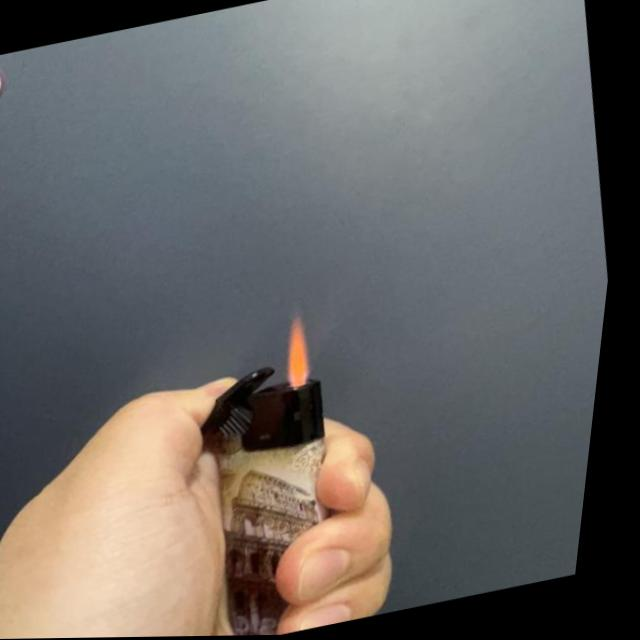Fire: (277, 312, 329, 393)
